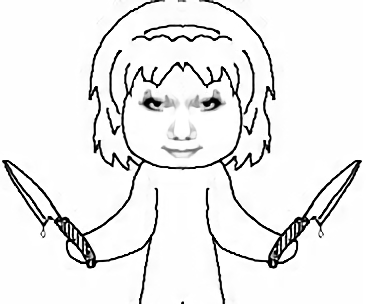dragon: (139, 89, 227, 158)
